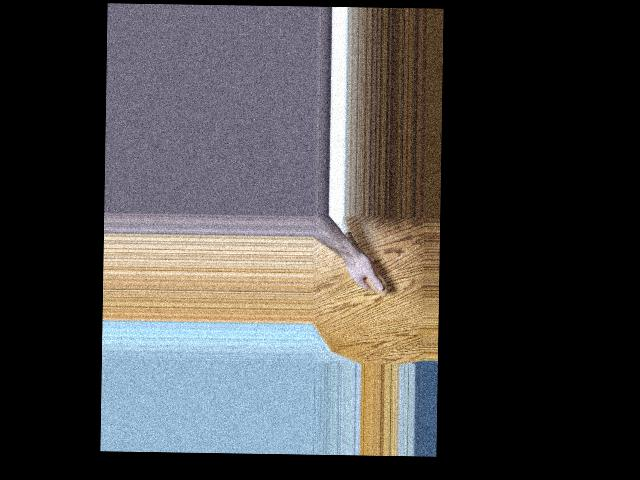sweet_potato: (341, 229, 388, 297)
